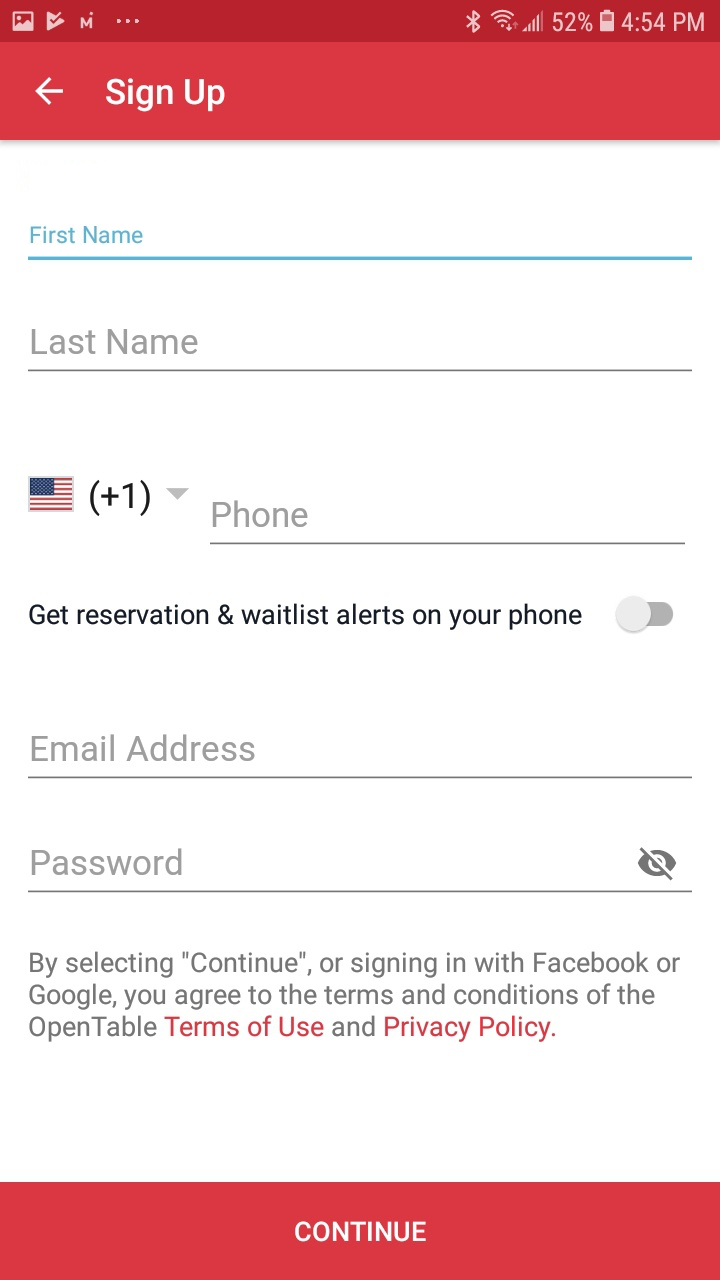EditText: (28, 847, 692, 894), (28, 734, 692, 780), (29, 329, 693, 373), (28, 226, 692, 261), (210, 500, 686, 546)
Icon: (638, 846, 677, 881), (35, 77, 65, 107), (166, 488, 190, 501)
Image: (29, 475, 76, 513)
Switch: (615, 596, 674, 633)
Text: (29, 950, 681, 1043), (29, 603, 583, 631), (33, 734, 256, 762), (33, 847, 183, 876), (32, 329, 198, 355), (106, 79, 226, 114), (212, 500, 308, 528), (90, 479, 152, 517), (31, 227, 144, 245)
TextButton: (1, 1182, 720, 1280)
UpperTaskBar: (1, 1, 720, 43)
